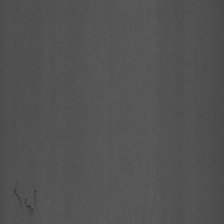water_spot: (10, 176, 42, 222)
